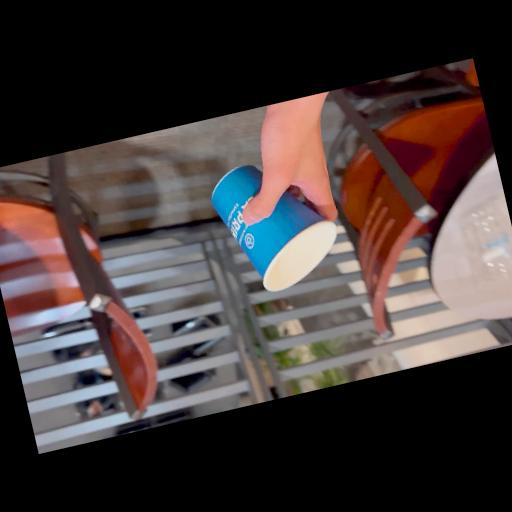lp_paper_cup: (204, 149, 344, 301)
